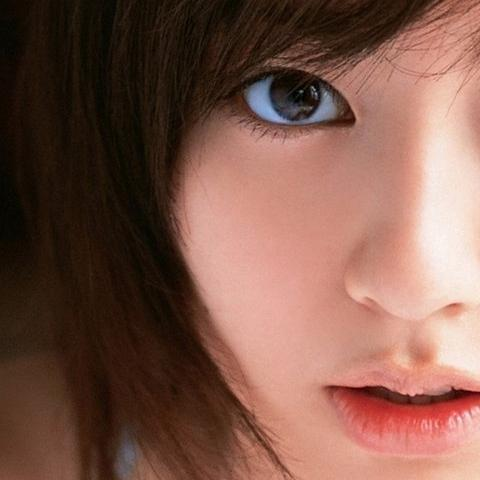opened: (167, 0, 480, 179)
